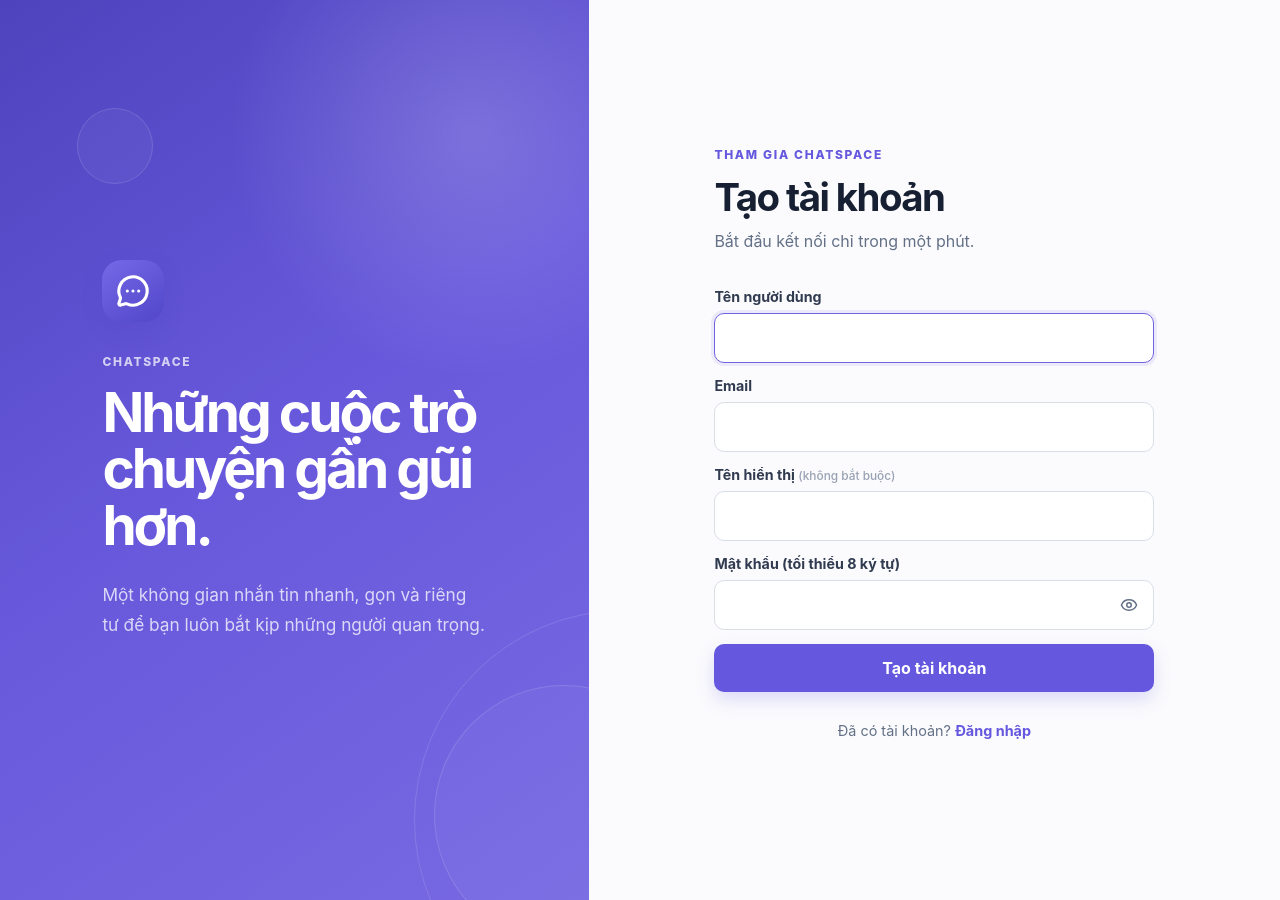
it: RegisterPage › shows that the verification email was sent when the API confirms it
Type "thanh_user" into the field labelled "Tên người dùng".
click(934, 338); type("thanh_user")  # box [714, 313, 1154, 363]
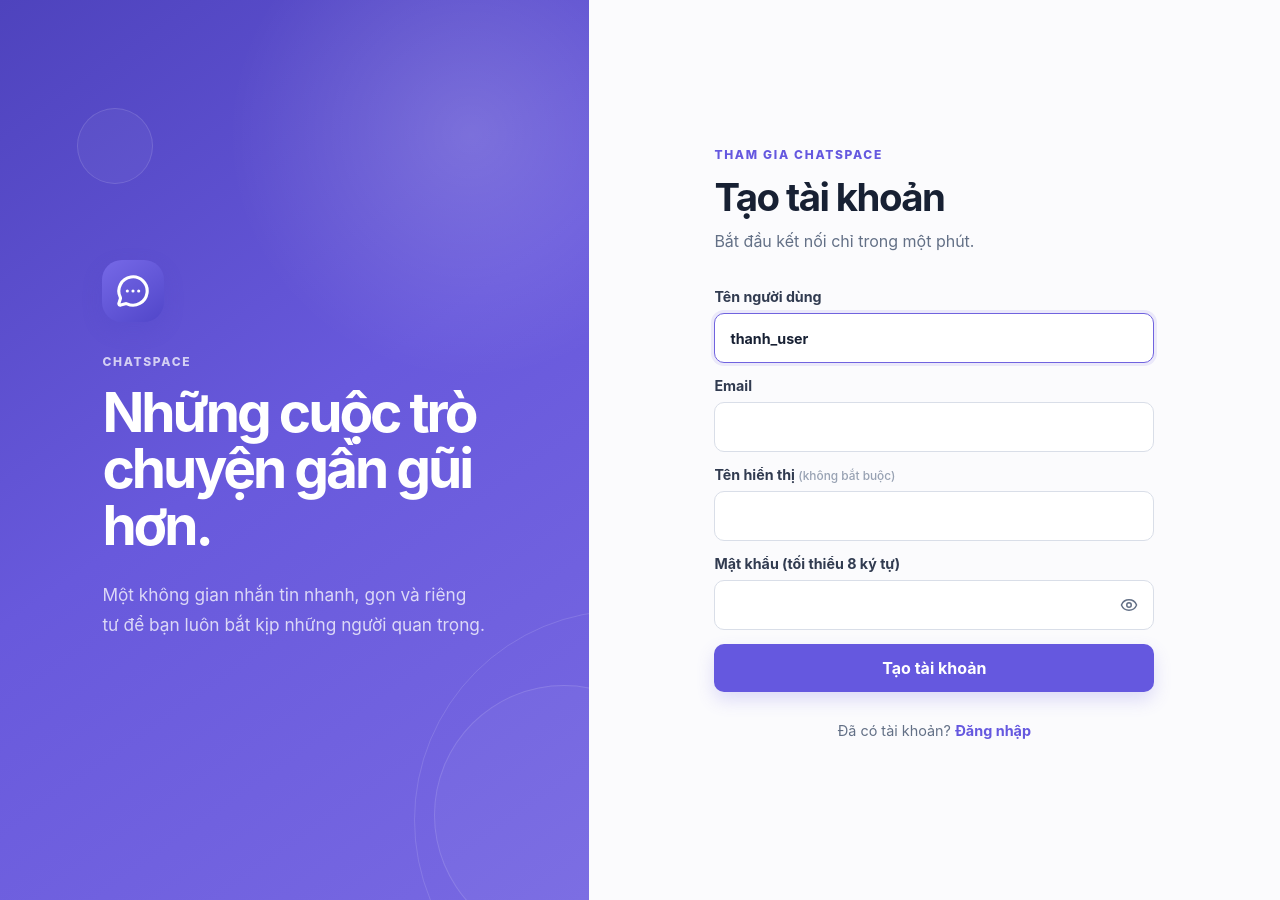
Type "thanh@example.com" into the field labelled "Email".
click(934, 427); type("thanh@example.com")  # box [714, 402, 1154, 452]
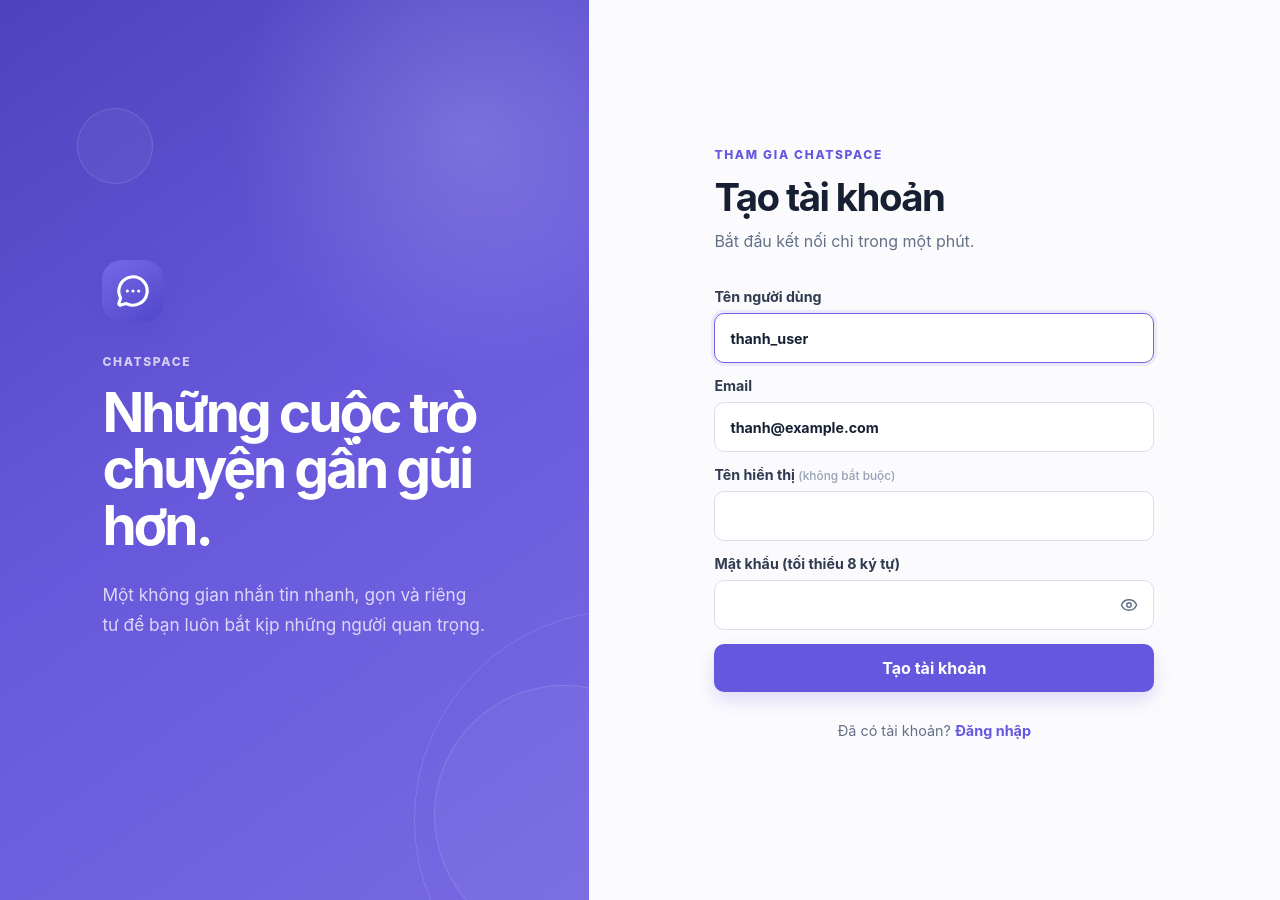
Type "Password123" into the password field labelled "Mật khẩu (tối thiểu 8 ký tự)".
click(934, 605); type("Password123")  # box [714, 580, 1154, 630]
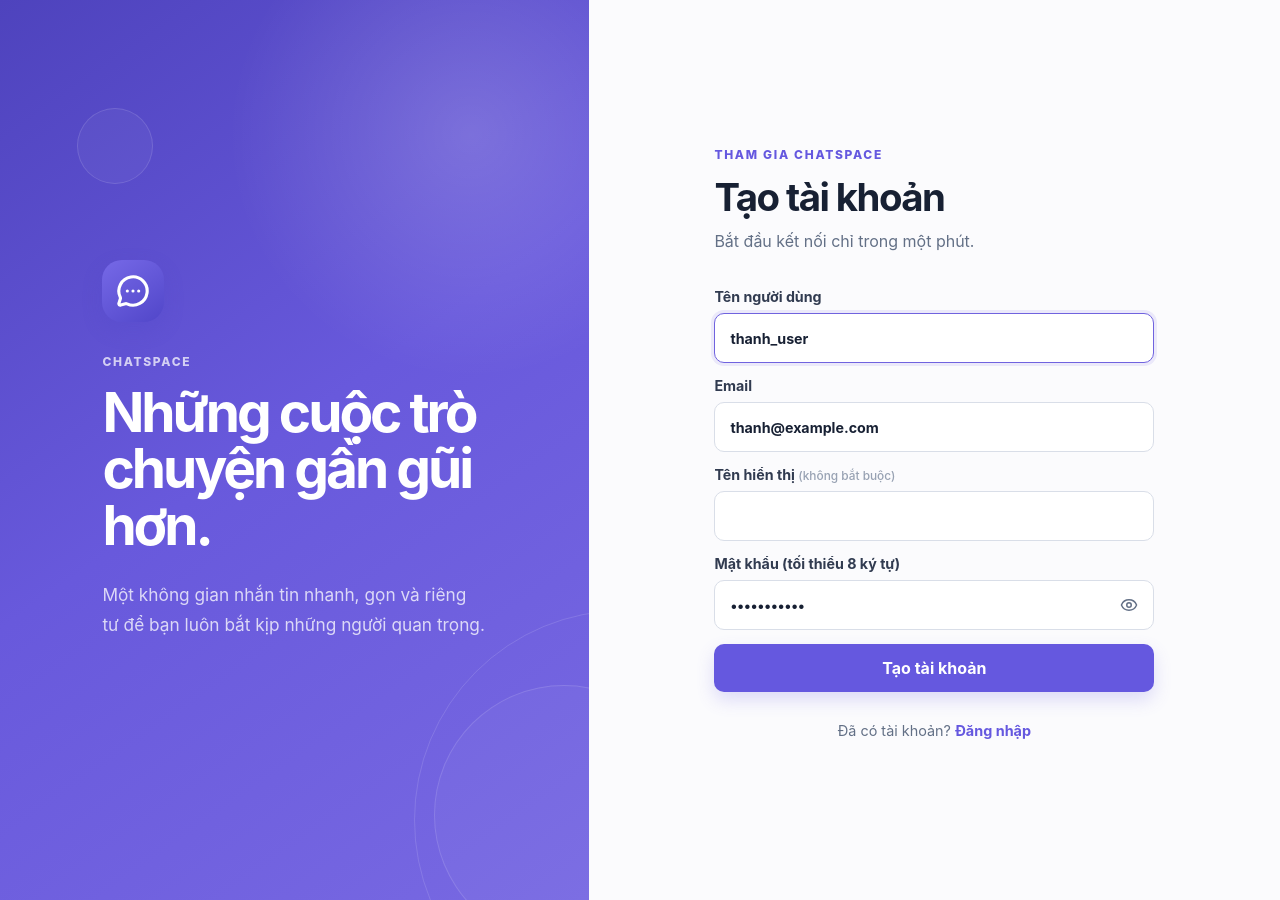
Click the button "Tạo tài khoản".
click(934, 668)  # box [714, 644, 1154, 692]
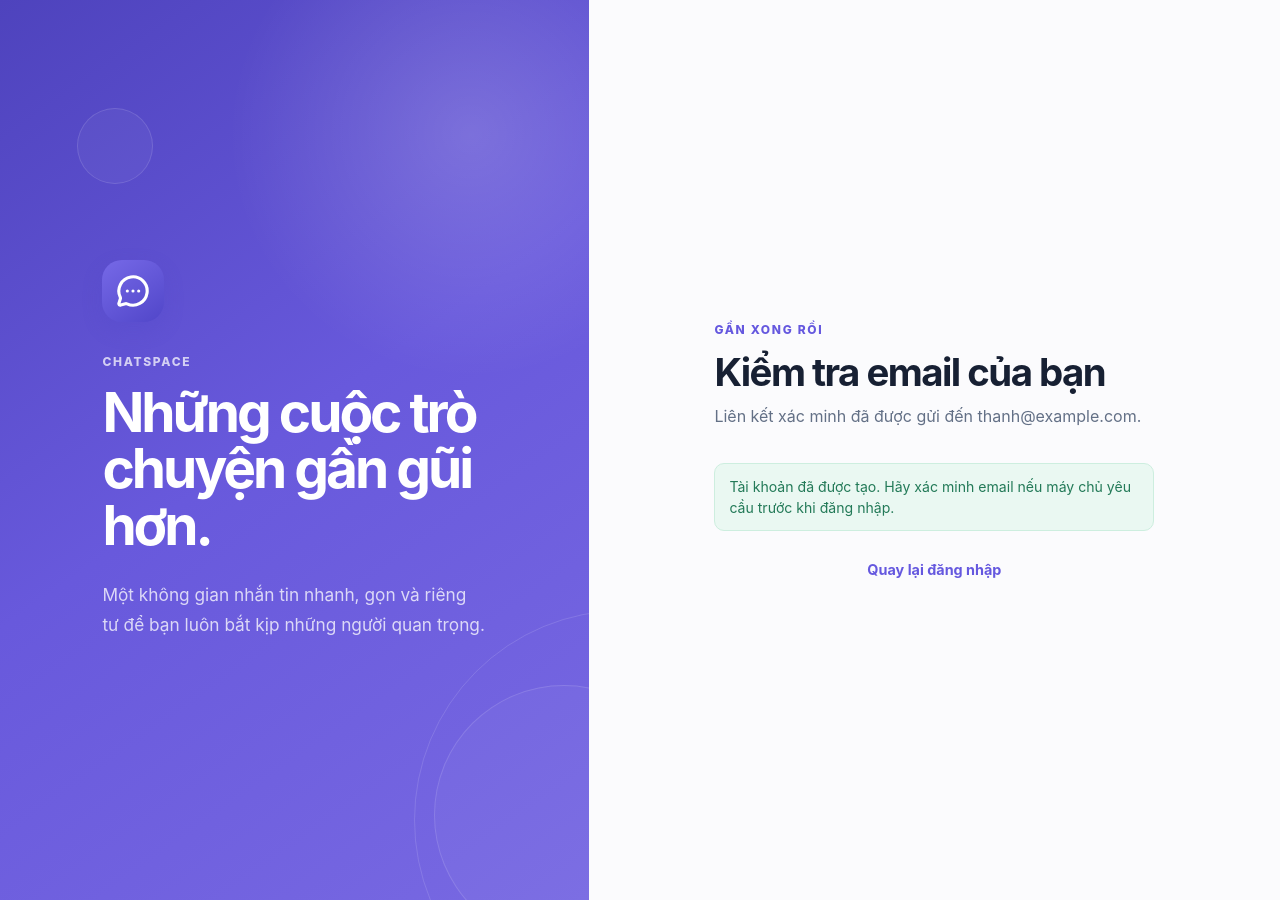
Expected: the heading "Kiểm tra email của bạn" is shown, [714, 349, 1154, 395]
Expected: the message shows "Hãy xác minh email", [729, 478, 1131, 516]
